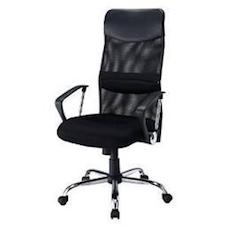chair: (7, 4, 214, 219)
